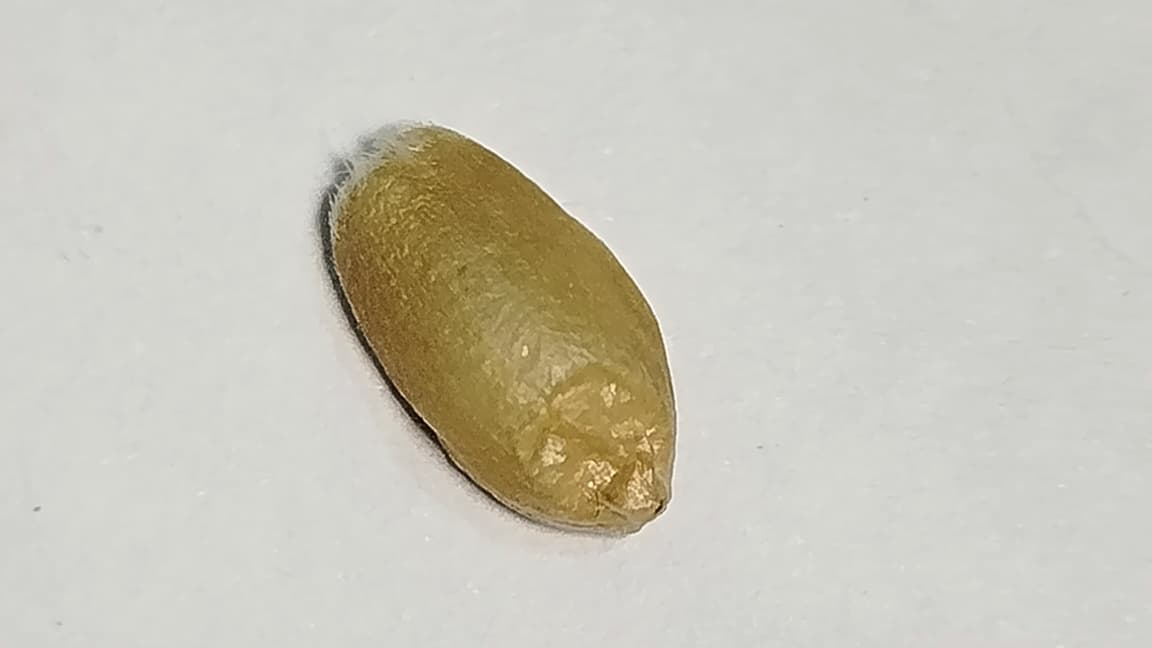healthy: (330, 126, 674, 531)
